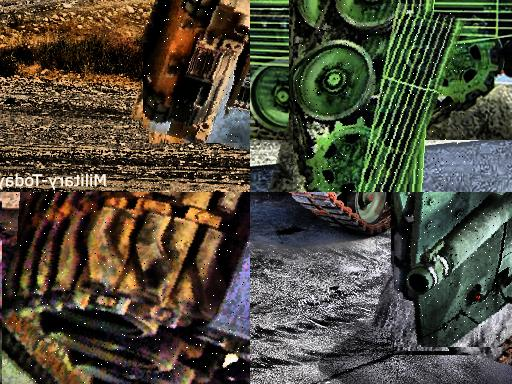tanks: (4, 193, 251, 384), (294, 1, 466, 193), (395, 193, 512, 348), (144, 1, 251, 143), (292, 193, 447, 233)
